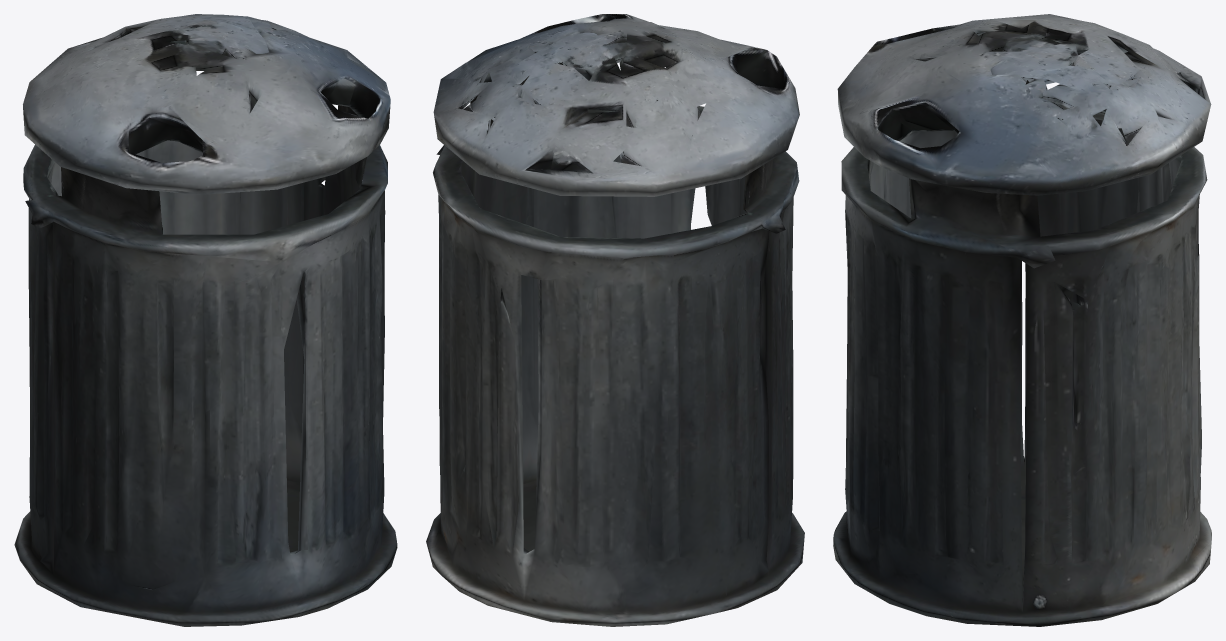
The model's file is trash_bin.fbx.
3 views of the same model, side by side, from view 1: azimuth 30°, elevation 25°; view 2: azimuth 150°, elevation 25°; view 3: azimuth 270°, elevation 25° (orthographic).
Visible parts, largest first — view 1: trash_bin; view 2: trash_bin; view 3: trash_bin.
Part boxes in pixels (<box>): trash_bin: <box>14,14,397,626</box>; trash_bin: <box>426,14,804,626</box>; trash_bin: <box>833,14,1211,626</box>.
Size of the model in its own units: 0.7041 by 0.9997 by 0.6821.
1 material, 1 textured.
